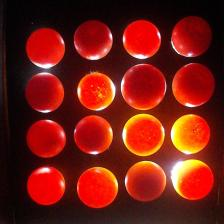fertile: (121, 63, 167, 111), (172, 62, 215, 108), (171, 15, 213, 58), (125, 160, 166, 202), (73, 20, 113, 60), (26, 118, 66, 158), (74, 115, 114, 155), (26, 72, 64, 113)
infertile: (122, 113, 165, 156), (172, 159, 214, 200), (77, 166, 118, 208), (170, 113, 210, 155), (26, 165, 66, 206), (26, 27, 64, 69), (77, 72, 117, 111), (123, 20, 161, 60)
